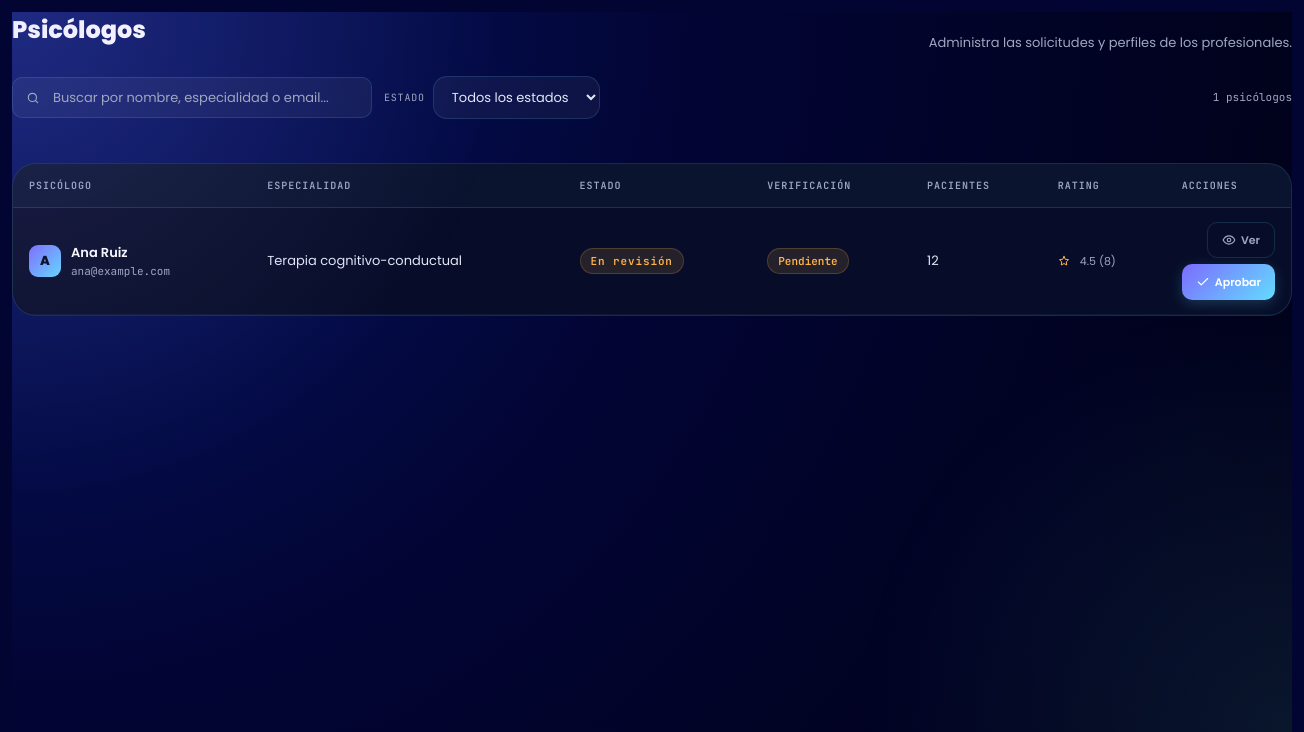
AdminPsychologistsPage › approves a psychologist in review and marks them active and verified
Click the button "Aprobar".
click(1228, 282)  # box [1182,264,1275,300]
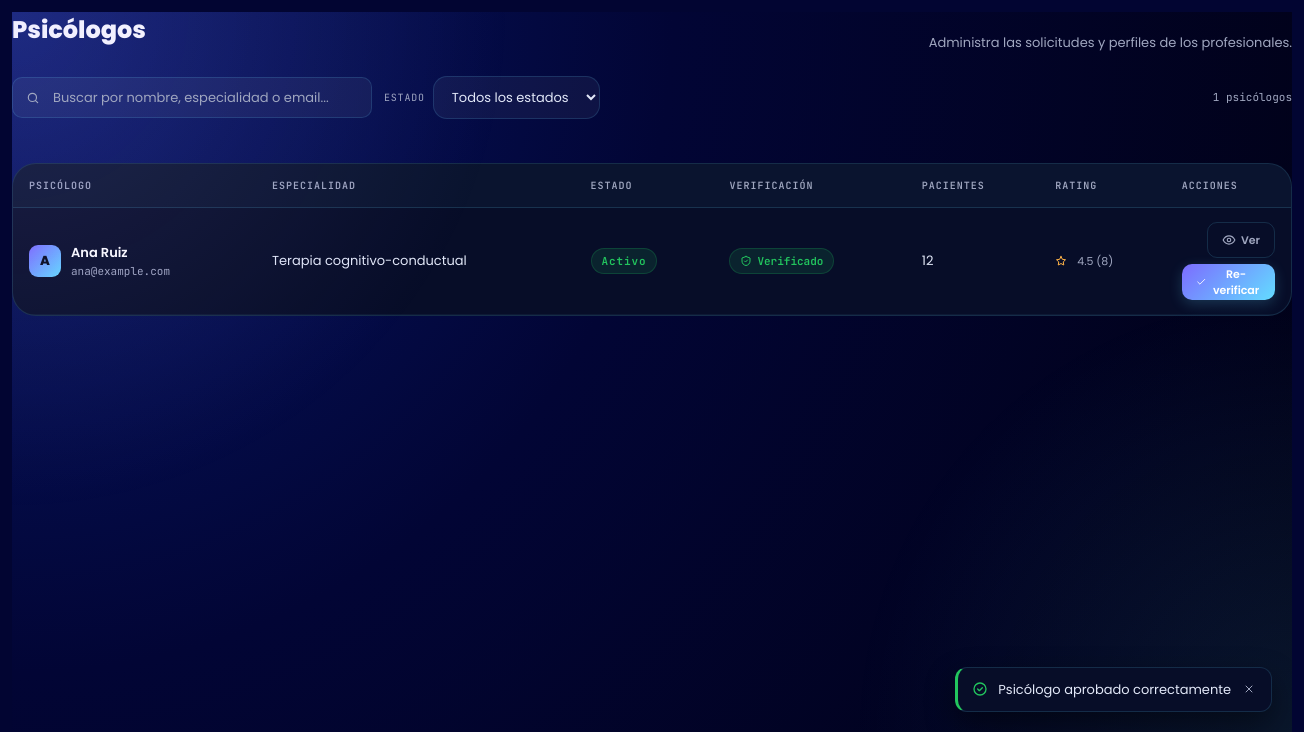
Result: the text "Psicólogo aprobado correctamente" is shown at [998,680,1231,699]
Result: the text "Verificado" is shown at [729,248,834,274]
Result: the text "Activo" is shown at [590,248,657,274]
